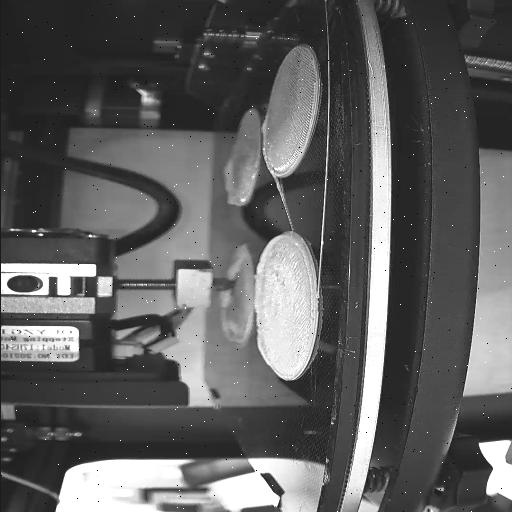over_extrusion: (252, 234, 315, 316), (220, 159, 240, 199), (253, 326, 271, 366), (227, 258, 243, 280), (220, 290, 233, 316), (257, 119, 267, 135)
